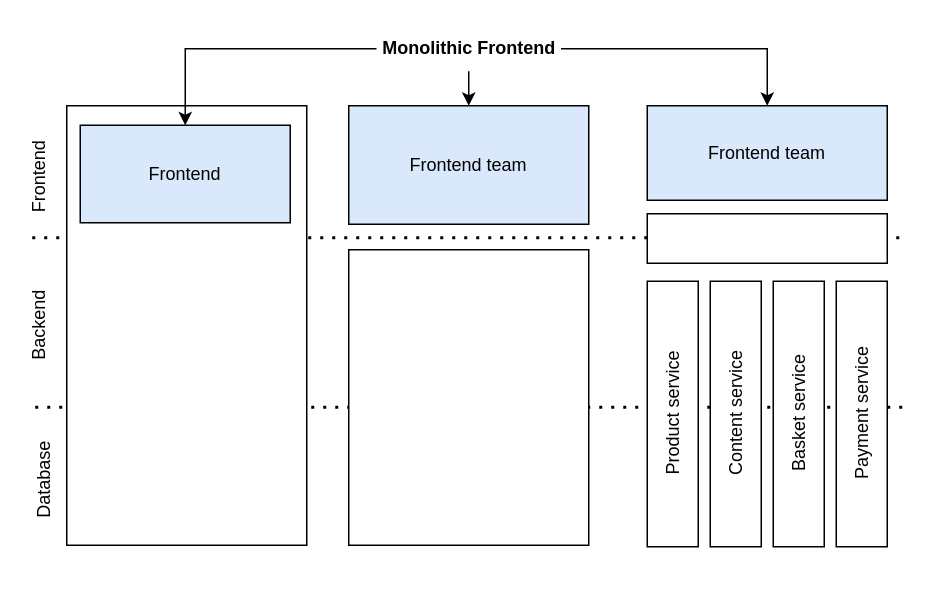
This 935x591 diagram has some shape labels left out. The box of each missing label's shape, as (x1, y1, x2, y2) in pixels:
Aggregation layer / gateway: (646, 212, 887, 263)
Backend Team: (347, 248, 589, 545)
Project Team: (65, 104, 307, 545)
